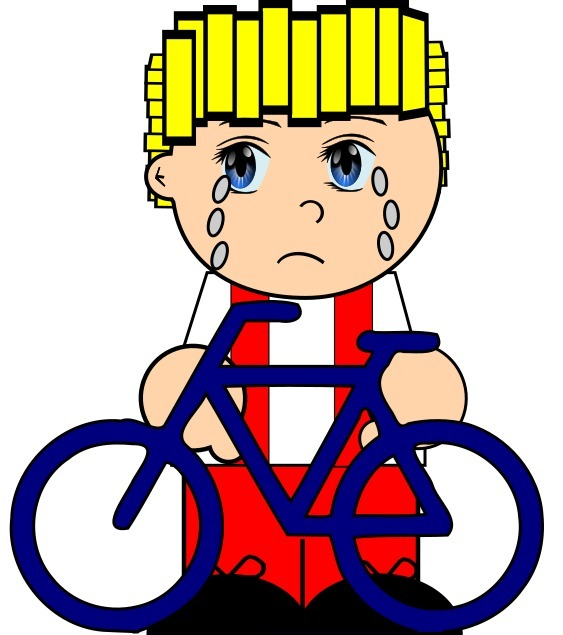bicycle: (6, 303, 547, 629)
person: (141, 4, 474, 621)
